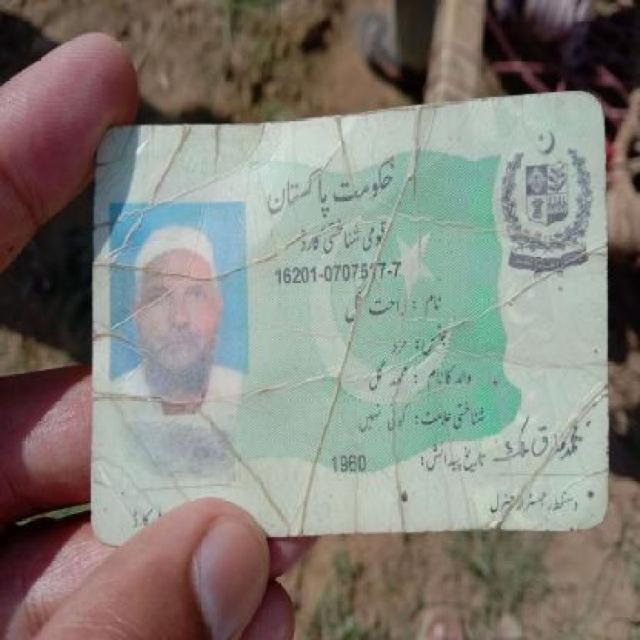Front: (87, 86, 618, 551)
